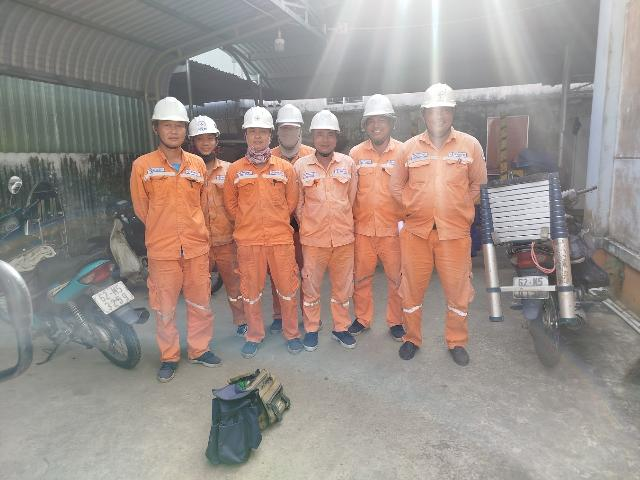helmet: (145, 94, 193, 126), (418, 80, 461, 109), (186, 110, 223, 143), (236, 106, 275, 132), (358, 92, 397, 118), (274, 102, 304, 129), (308, 110, 344, 132)
shoes: (183, 347, 225, 369), (344, 312, 374, 337), (443, 342, 473, 367), (397, 335, 428, 359), (155, 354, 181, 381), (235, 335, 264, 356), (329, 330, 356, 350), (384, 316, 407, 339), (303, 328, 322, 351), (287, 329, 304, 354), (266, 312, 285, 334), (235, 322, 261, 335)
